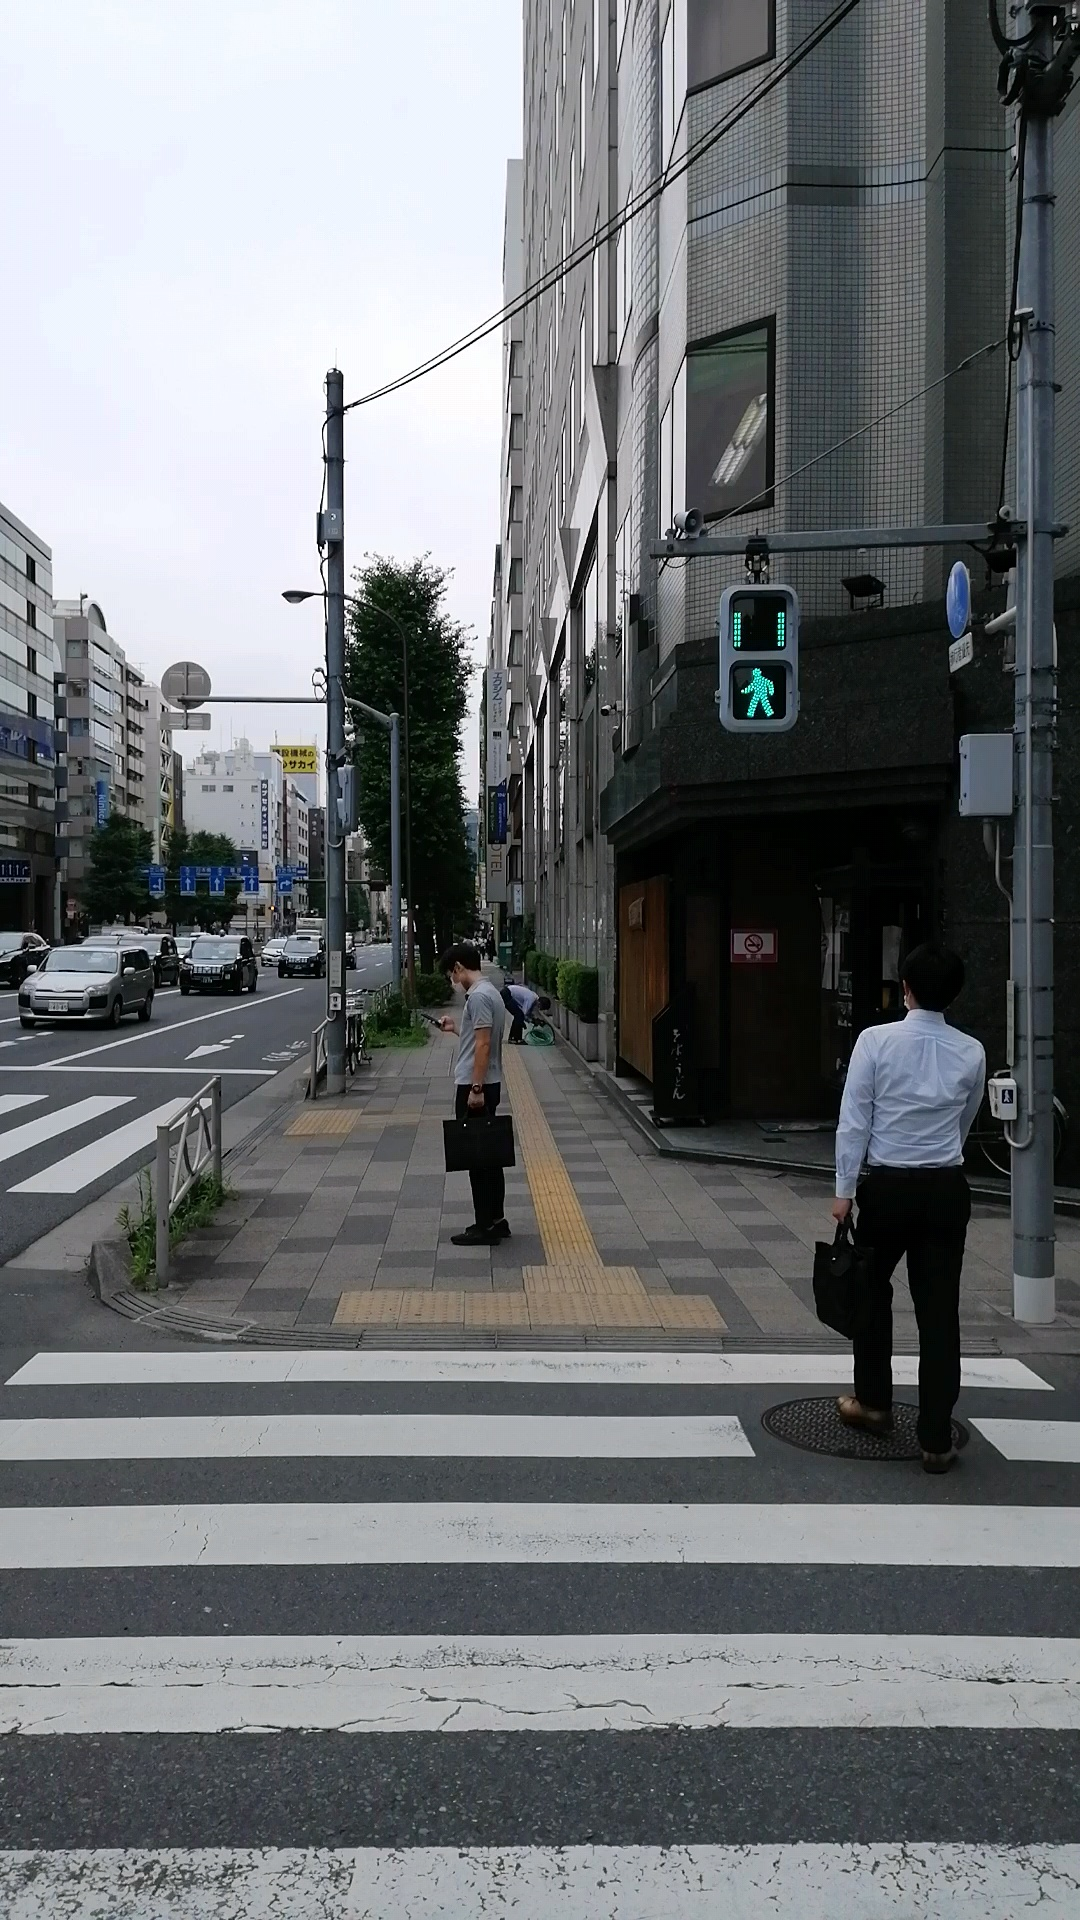green: (717, 580, 798, 735)
